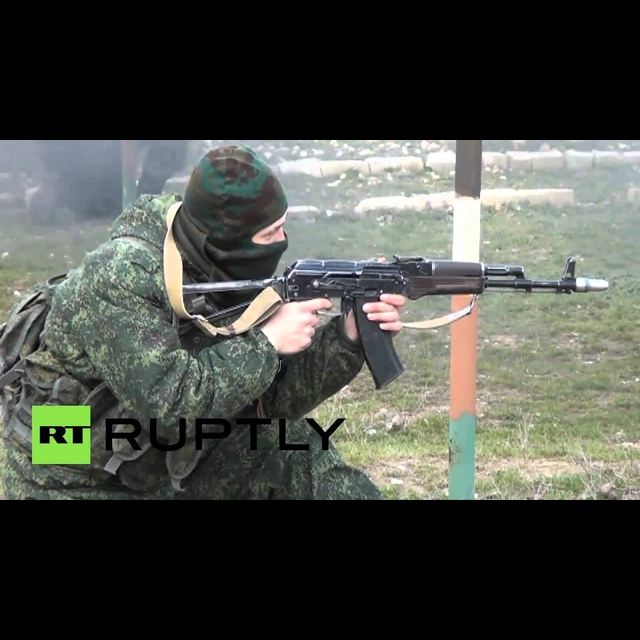AK47: (286, 260, 612, 394)
